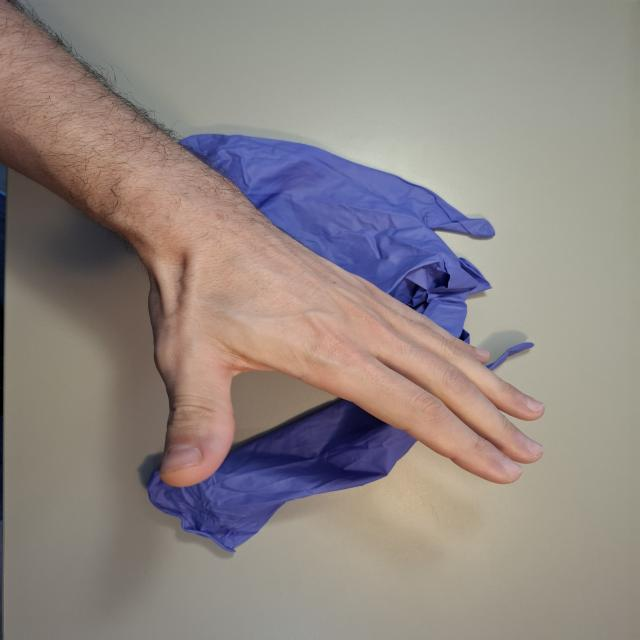glove_off: (138, 207, 553, 492)
